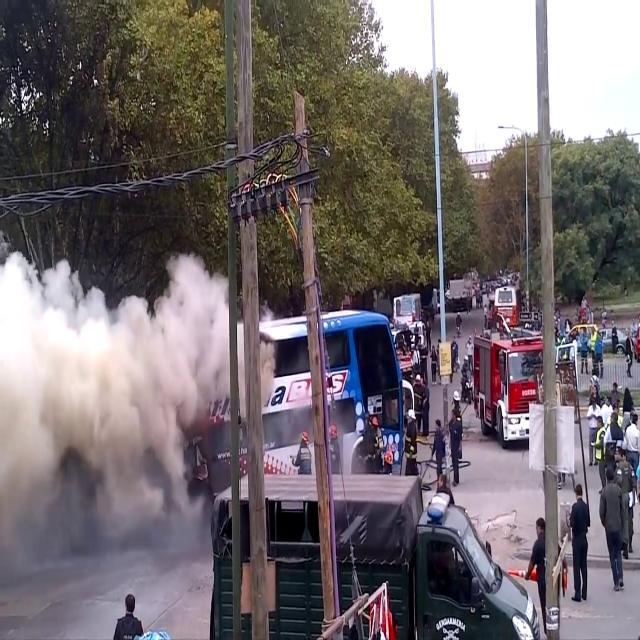Smoke: (0, 241, 228, 558)
